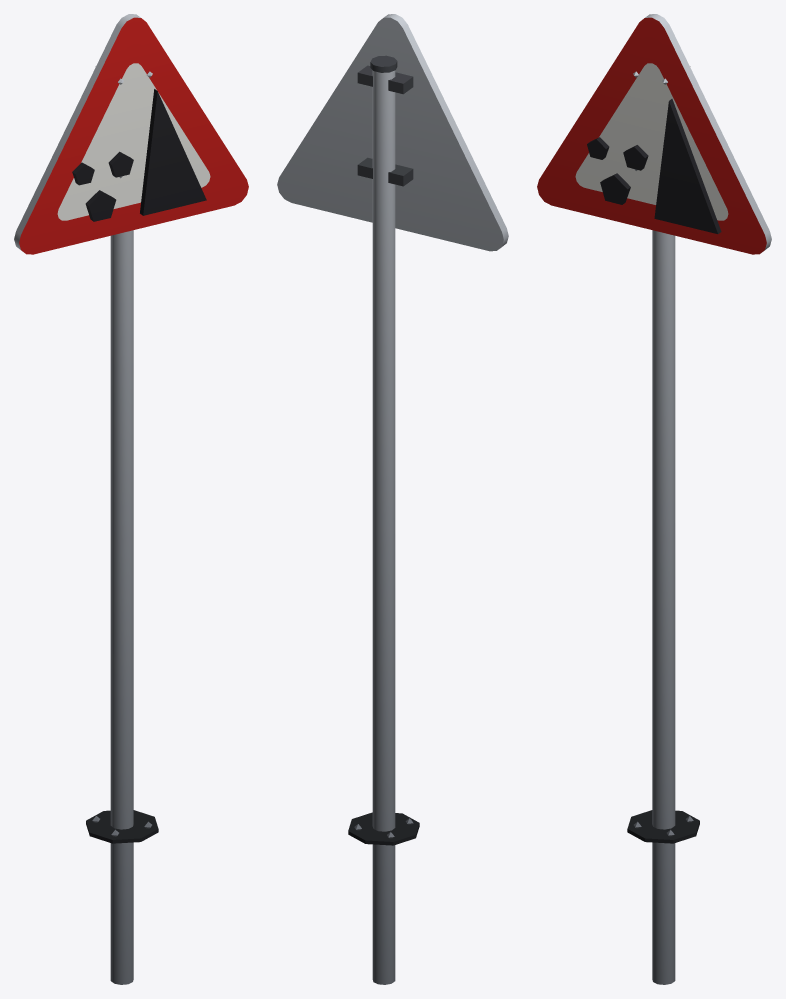
File: Sign_Rockfall.fbx
3 views of the same model, side by side, from view 1: azimuth 30°, elevation 25°; view 2: azimuth 150°, elevation 25°; view 3: azimuth 330°, elevation 25° (orthographic).
Visible parts, largest first — view 1: Sign_Rockfall_LOD0; view 2: Sign_Rockfall_LOD0; view 3: Sign_Rockfall_LOD0.
Part boxes in pixels (<box>): Sign_Rockfall_LOD0: <box>14,14,248,984</box>; Sign_Rockfall_LOD0: <box>277,14,508,984</box>; Sign_Rockfall_LOD0: <box>537,14,771,984</box>.
Size of what is drawn, in the model's own units: 0.7928 by 3.2 by 0.224.
Materials: 1 (1 with a texture image).
